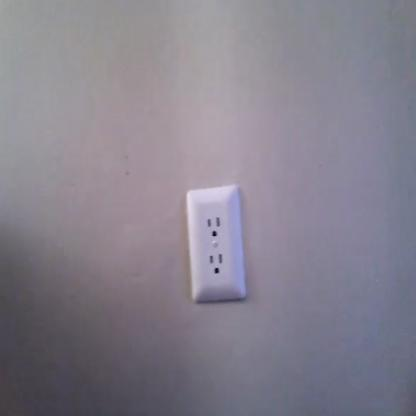OUTLET: (187, 186, 247, 300)
